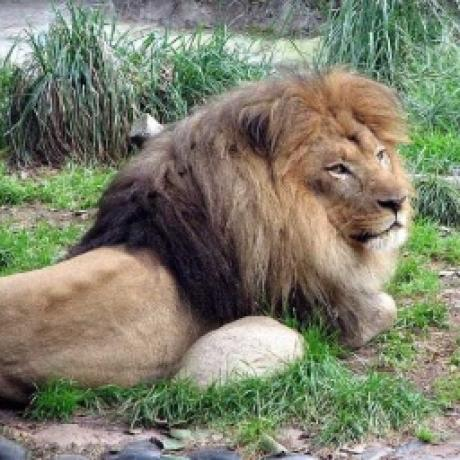Lion: (0, 69, 413, 406)
